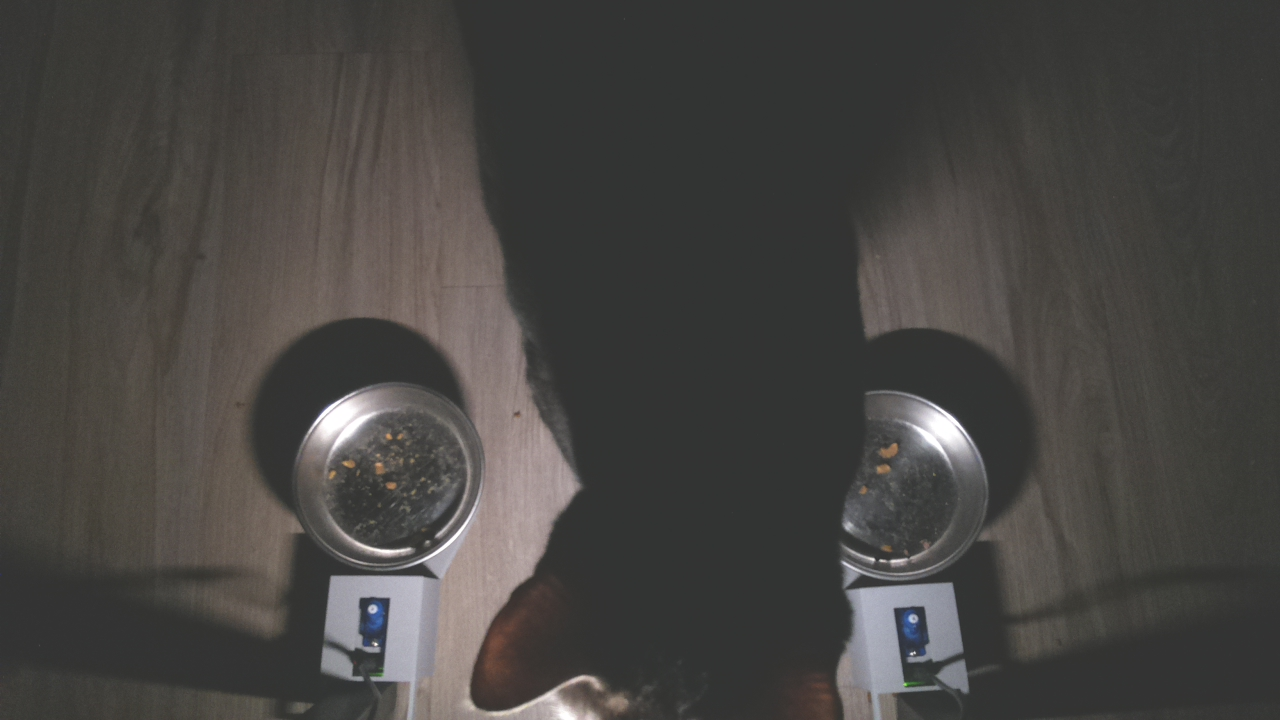open_bowl: (283, 378, 490, 578), (855, 375, 993, 580)
